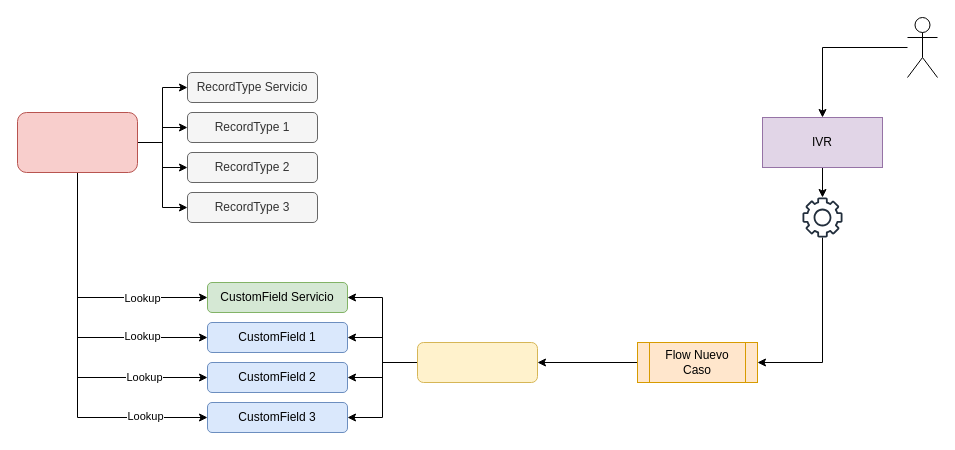
This 955x450 diagram has some shape labels left out. Each missing label, with the box of its shape:
Actor: (906, 16, 938, 78)
Case: (416, 342, 538, 382)
Integración Nativa: (802, 197, 842, 237)
Nuevo Objeto Tipificaciones CC: (16, 112, 138, 172)
